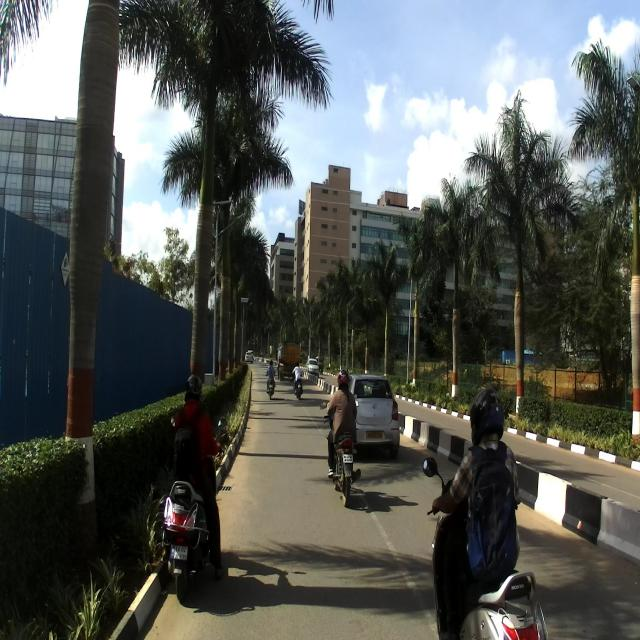motorcycle_bajaj: (323, 401, 361, 508)
scooter: (420, 454, 549, 639), (158, 412, 227, 602)
